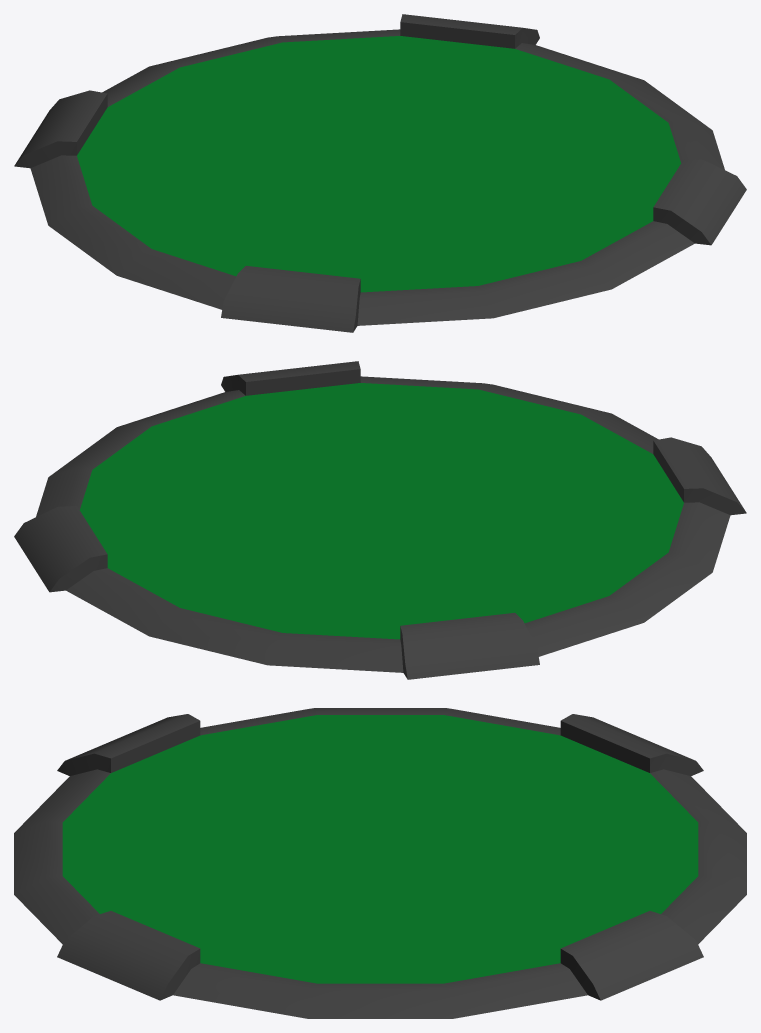
File: SM.SpawnPoint.fbx
3 renders of one model, top to bottom at view 1: azimuth 30°, elevation 25°; view 2: azimuth 150°, elevation 25°; view 3: azimuth 270°, elevation 25°, orthographic. The views are drawn at different scales.
Visible parts, largest first — view 1: SM.SpawnPoint; view 2: SM.SpawnPoint; view 3: SM.SpawnPoint.
Boxes of the visible parts, left/top/right/bottom form: SM.SpawnPoint: left=14, top=14, right=746, bottom=332; SM.SpawnPoint: left=14, top=361, right=746, bottom=679; SM.SpawnPoint: left=14, top=708, right=746, bottom=1018.
Size of the model in its own units: 2.26 by 0.1 by 2.26.
